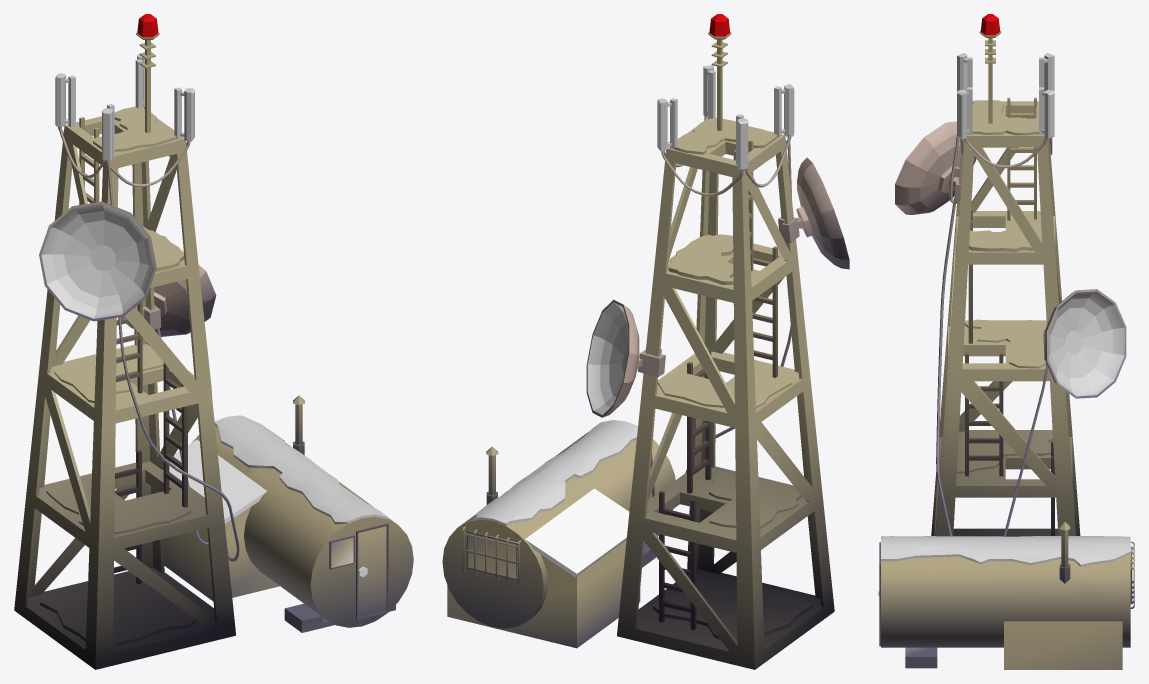
The model's file is Tower.fbx.
3 renders of one model, left to right at view 1: azimuth 30°, elevation 25°; view 2: azimuth 150°, elevation 25°; view 3: azimuth 270°, elevation 25°, orthographic. The views are drawn at different scales.
Visible parts, largest first — view 1: Tower; view 2: Tower; view 3: Tower.
Boxes of the visible parts, bbox=[...] form: Tower: bbox=[14, 14, 413, 669]; Tower: bbox=[442, 14, 849, 669]; Tower: bbox=[878, 14, 1134, 669].
Size of the model in its own units: 691 by 1242 by 514.
